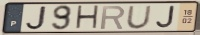9: (50, 4, 73, 32)
H: (74, 4, 101, 31)
J: (24, 5, 49, 31), (154, 5, 176, 30)
R: (99, 5, 127, 31)
U: (125, 5, 153, 30)
